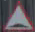Speed Breaker ahead: (3, 0, 33, 31)
